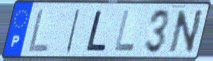3: (144, 8, 172, 55)
I: (64, 8, 82, 55)
L: (26, 7, 51, 54), (84, 9, 108, 53), (113, 9, 137, 53)
N: (167, 9, 205, 55)
